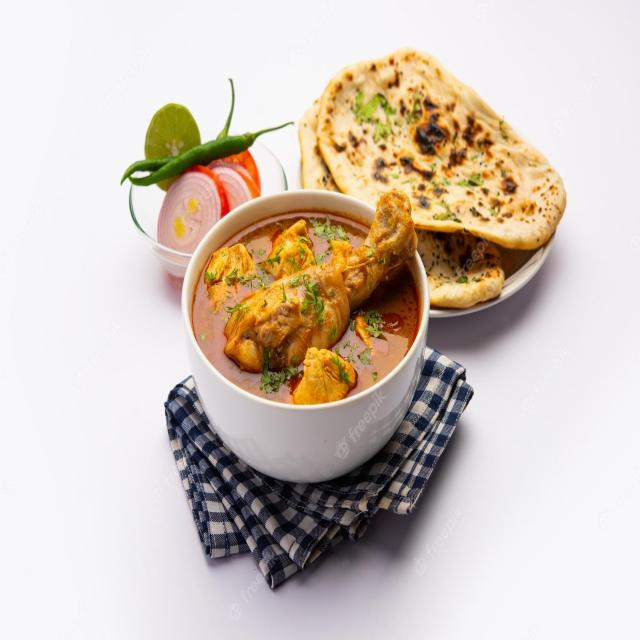chicken: (198, 196, 408, 399)
roti: (315, 31, 546, 302)
